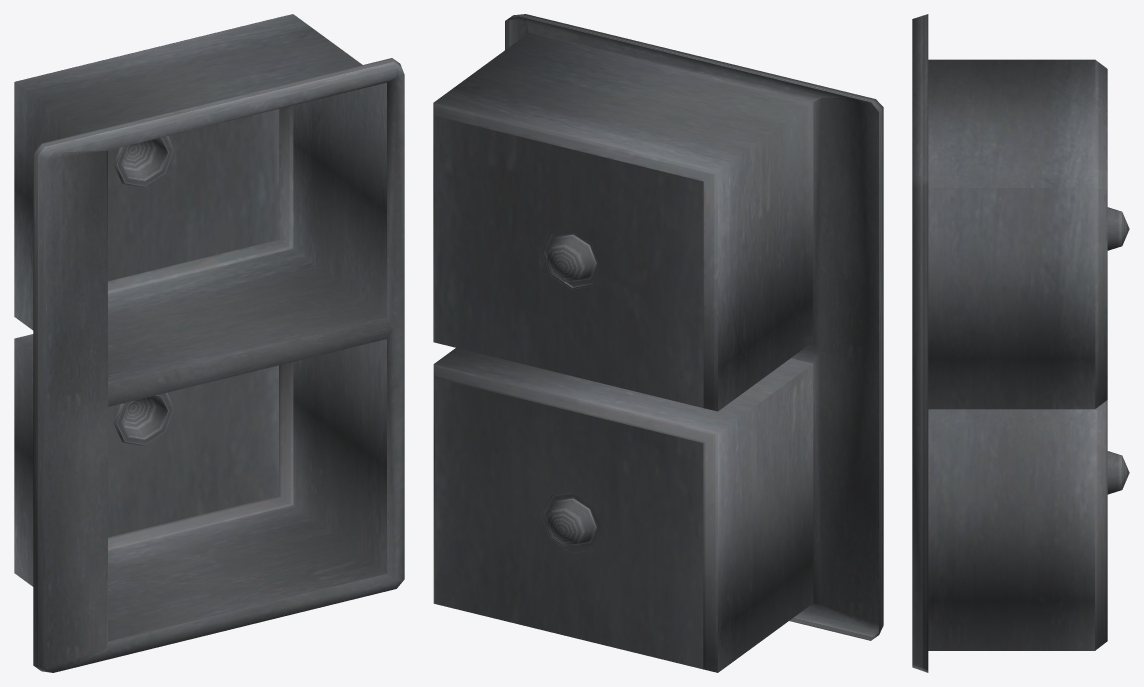
The model's file is p6_kitchen_sink_double_LOD1.obj.
3 renders of one model, left to right at view 1: azimuth 30°, elevation 25°; view 2: azimuth 150°, elevation 25°; view 3: azimuth 270°, elevation 25°, orthographic. The views are drawn at different scales.
Visible parts, largest first — view 1: brush_metal_panel_karma_matte; view 2: brush_metal_panel_karma_matte; view 3: brush_metal_panel_karma_matte.
Part boxes in pixels (<box>): brush_metal_panel_karma_matte: <box>14,14,404,672</box>; brush_metal_panel_karma_matte: <box>433,14,883,672</box>; brush_metal_panel_karma_matte: <box>912,14,1129,672</box>.
Size of the model in its own units: 40.64 by 55.88 by 22.12.
1 material, 1 textured.
